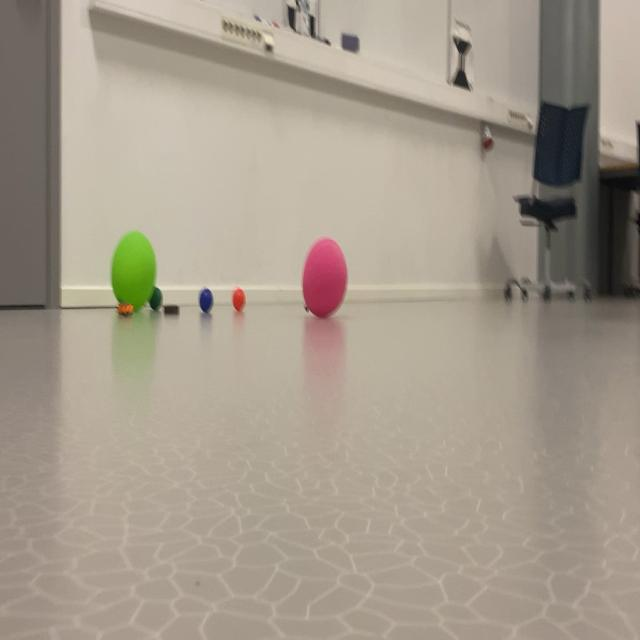7: (220, 255, 250, 325)
blue ball: (142, 270, 258, 310), (192, 274, 248, 334)
green ball: (189, 252, 218, 326)
red ball: (144, 250, 171, 313)
